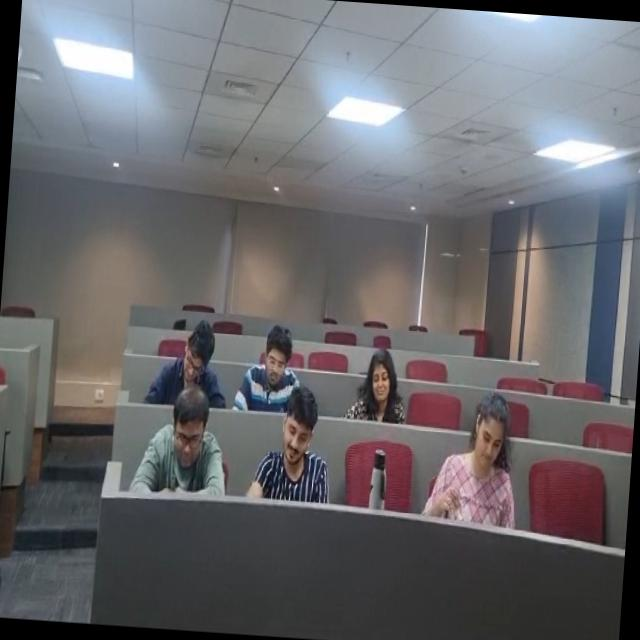cheating: (416, 372, 529, 550), (262, 390, 346, 512)
non-cheating: (144, 288, 243, 420), (136, 395, 234, 503), (347, 316, 425, 441), (233, 318, 312, 416)
